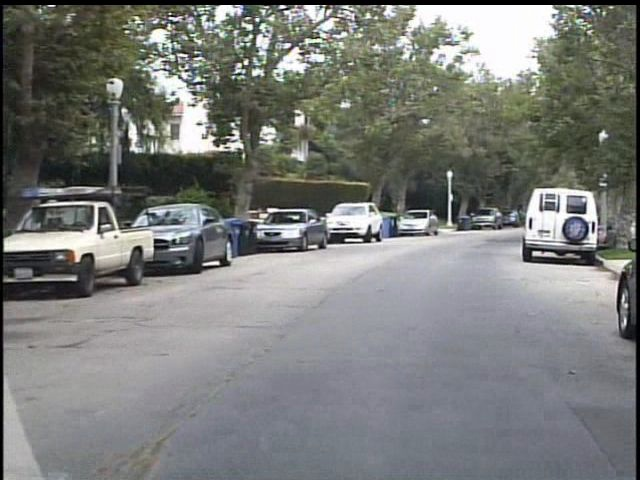person: (602, 223, 622, 253)
